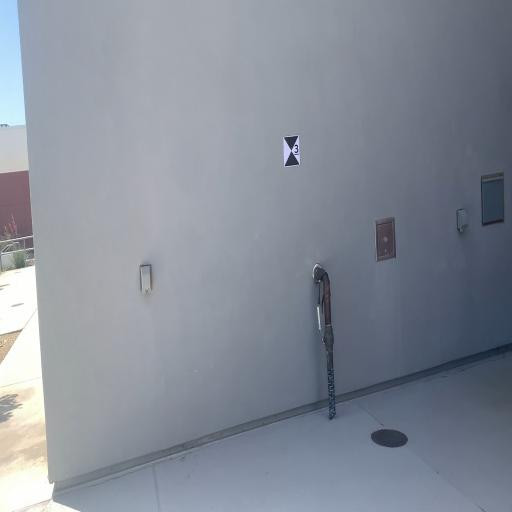target3: (283, 134, 300, 168)
